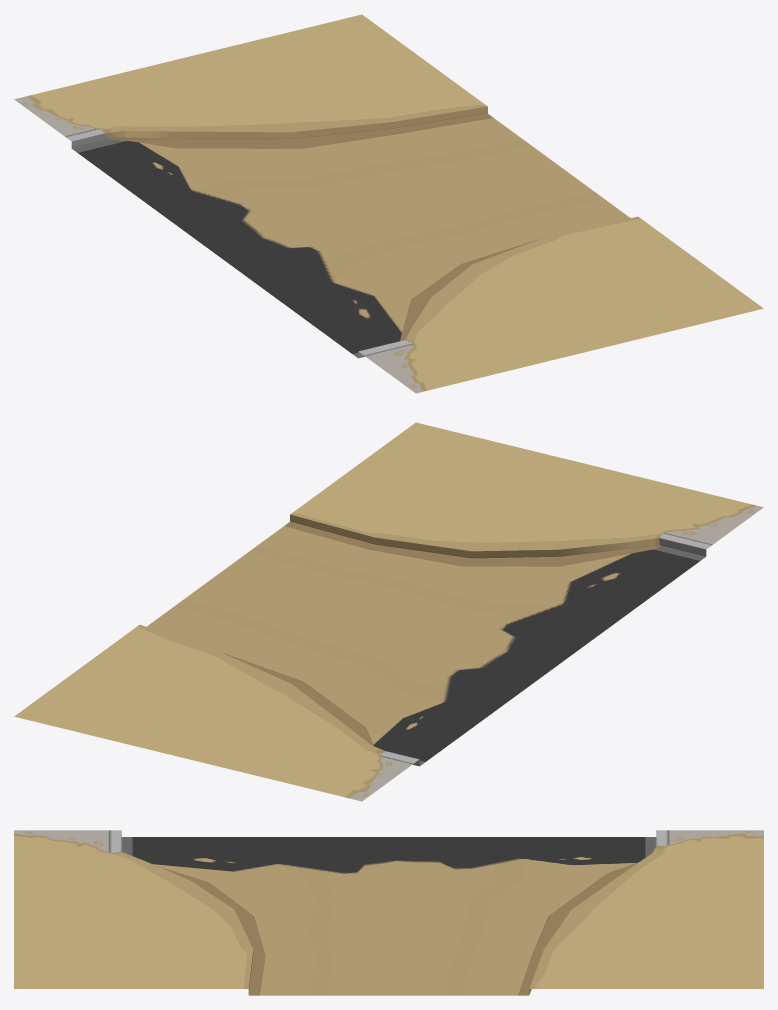
File: SM_Env_Road_Dirt_Town_Transition_01.fbx
3 views of the same model, one above another, from view 1: azimuth 30°, elevation 25°; view 2: azimuth 150°, elevation 25°; view 3: azimuth 270°, elevation 25° (orthographic). The views are drawn at different scales.
Parts seen in each view (by area): view 1: SM_Env_Road_Dirt_Town_Transition_01; view 2: SM_Env_Road_Dirt_Town_Transition_01; view 3: SM_Env_Road_Dirt_Town_Transition_01.
Part boxes in pixels (left/top/right/bottom): SM_Env_Road_Dirt_Town_Transition_01: left=14, top=14, right=763, bottom=393; SM_Env_Road_Dirt_Town_Transition_01: left=14, top=422, right=763, bottom=801; SM_Env_Road_Dirt_Town_Transition_01: left=14, top=830, right=763, bottom=995.
Size of the model in its own units: 10 by 0.1948 by 20.
